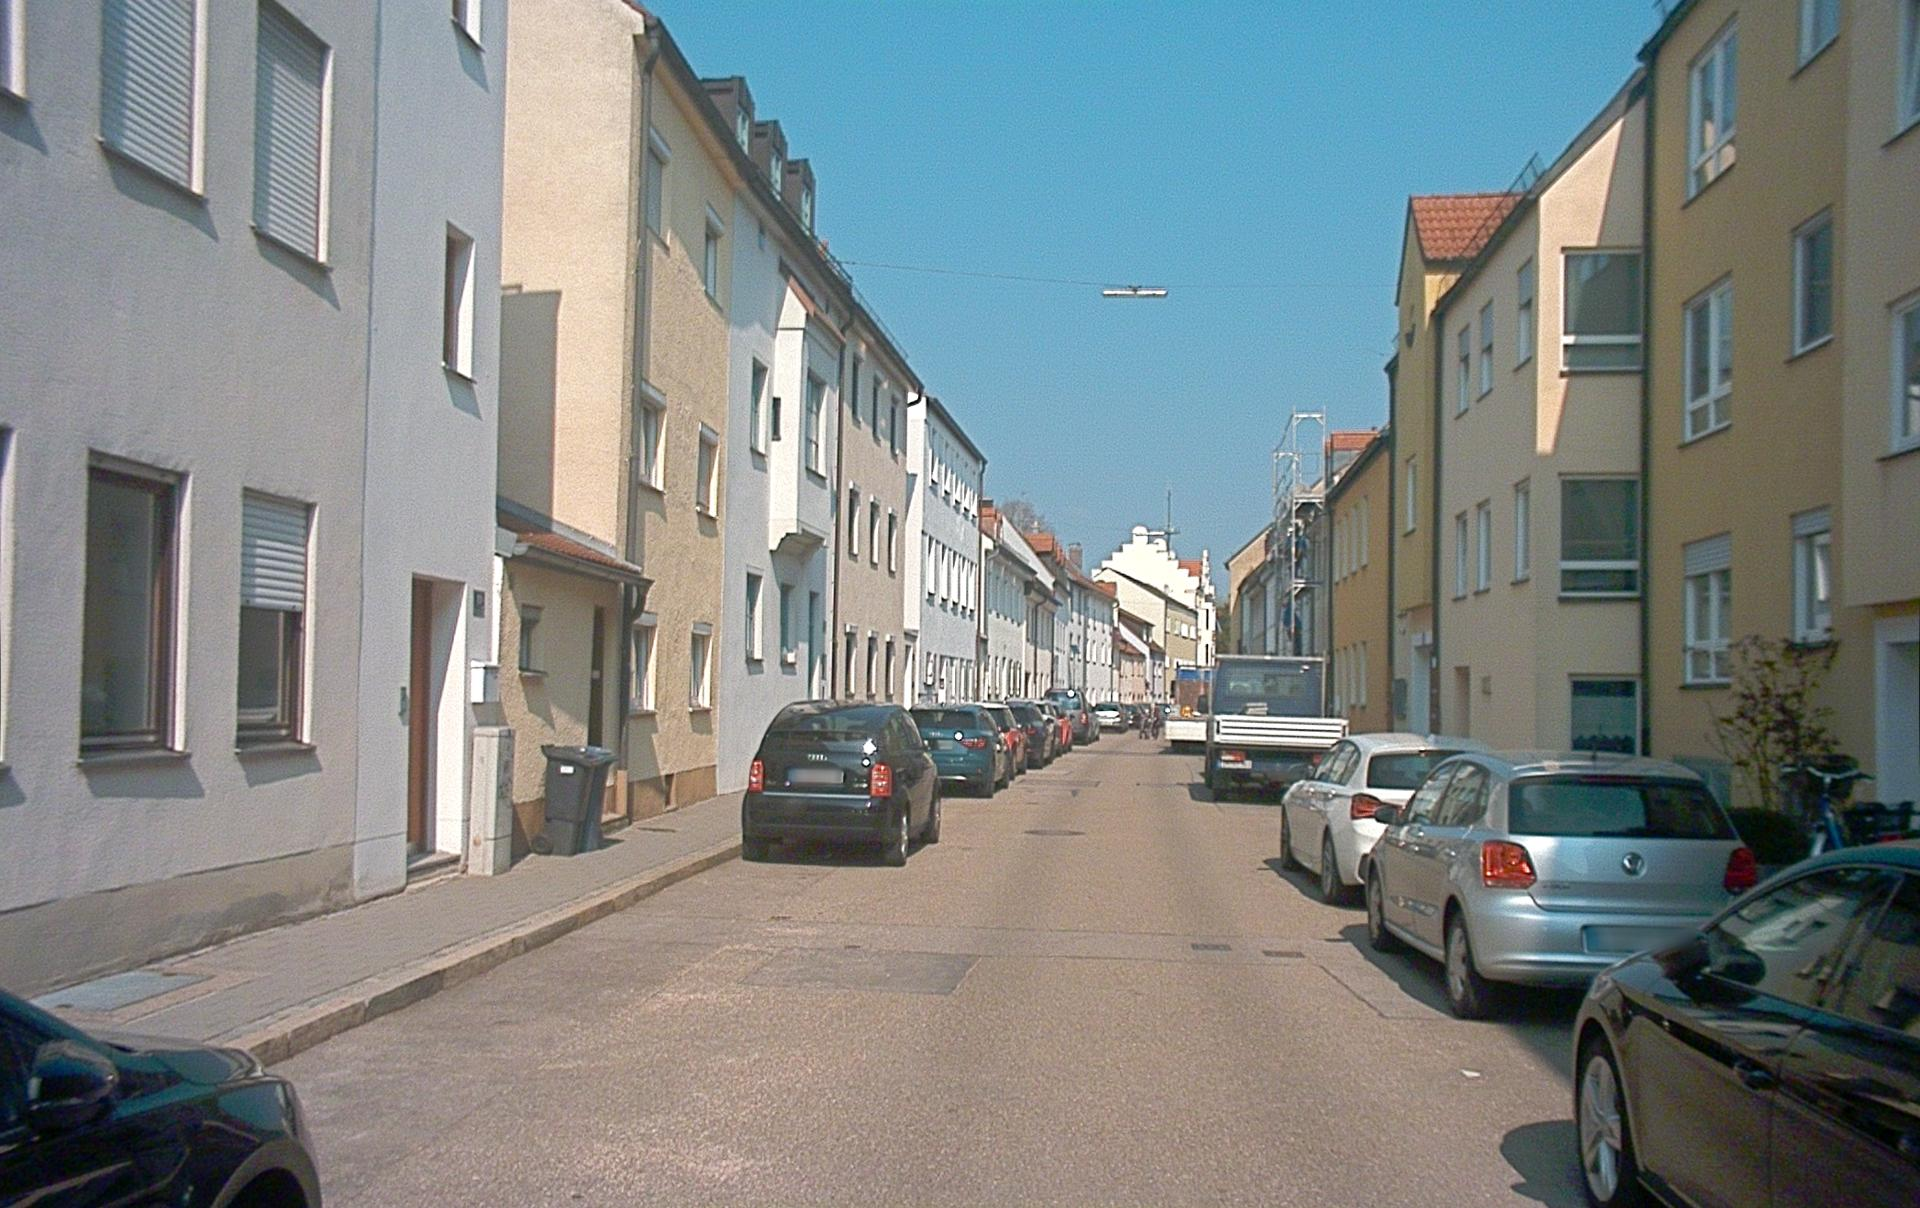car: (1570, 840, 1919, 1207), (1362, 748, 1758, 1019), (1, 988, 323, 1207), (1280, 731, 1496, 905), (741, 700, 942, 866), (908, 703, 1003, 797), (979, 703, 1028, 778), (1006, 701, 1055, 767), (1043, 689, 1099, 744), (1033, 701, 1074, 754), (1035, 701, 1074, 752), (1091, 702, 1127, 733)
